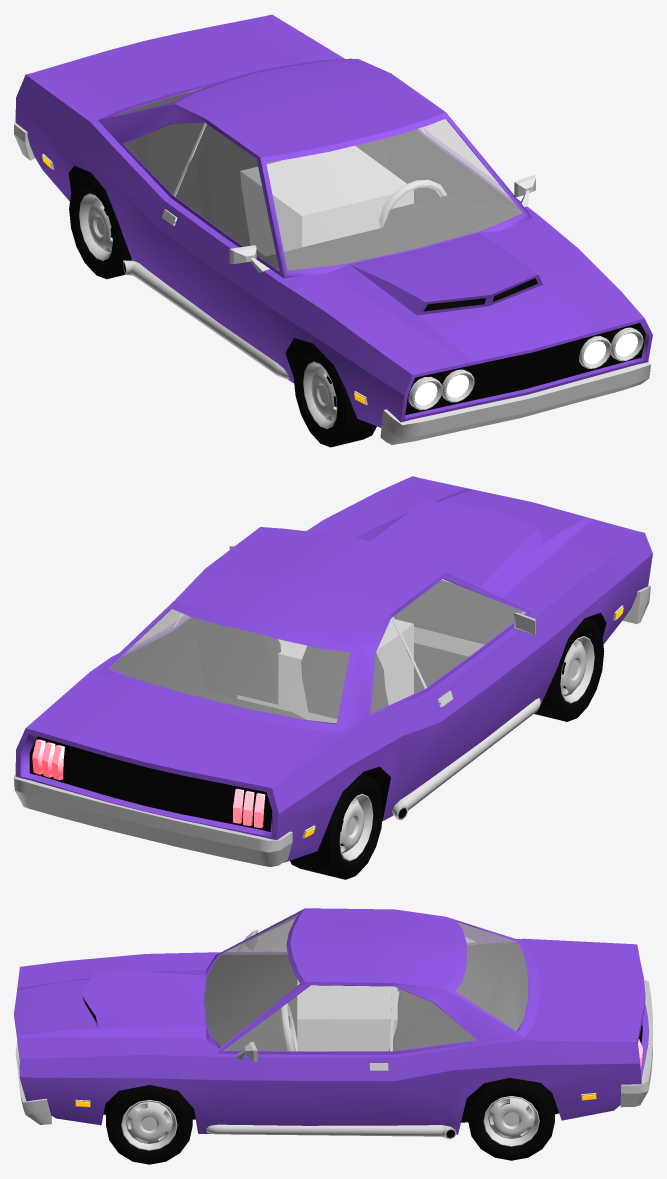
The model's file is car_purple.glb.
3 views of the same model, one above another, from view 1: azimuth 30°, elevation 25°; view 2: azimuth 150°, elevation 25°; view 3: azimuth 270°, elevation 25° (orthographic). The views are drawn at different scales.
Visible parts, largest first — view 1: Cube_0, Cube, Cube.001_3, Cube.005_6; view 2: Cube_0, Cube.005_6, Cube, Cube.001_3; view 3: Cube_0, Cube, Cube.002_4, Cube.004_5.
Boxes of the visible parts, x1=… form: Cube_0: x1=14, y1=14, x2=652, y2=444; Cube: x1=240, y1=146, x2=413, y2=255; Cube.001_3: x1=293, y1=343, x2=376, y2=447; Cube.005_6: x1=69, y1=173, x2=132, y2=279; Cube_0: x1=14, y1=476, x2=652, y2=866; Cube.005_6: x1=290, y1=774, x2=383, y2=879; Cube: x1=237, y1=619, x2=413, y2=722; Cube.001_3: x1=534, y1=617, x2=604, y2=721; Cube_0: x1=14, y1=908, x2=652, y2=1139; Cube: x1=297, y1=980, x2=399, y2=1050; Cube.002_4: x1=468, y1=1078, x2=554, y2=1160; Cube.004_5: x1=106, y1=1085, x2=192, y2=1164.
Bounding box in the file's own units: 5.46 × 3.6 × 12.16.
